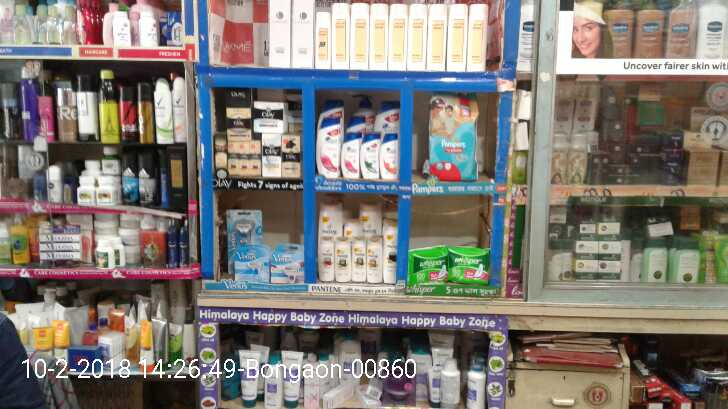venus: (271, 245, 305, 282), (235, 249, 271, 282), (227, 209, 260, 241)
